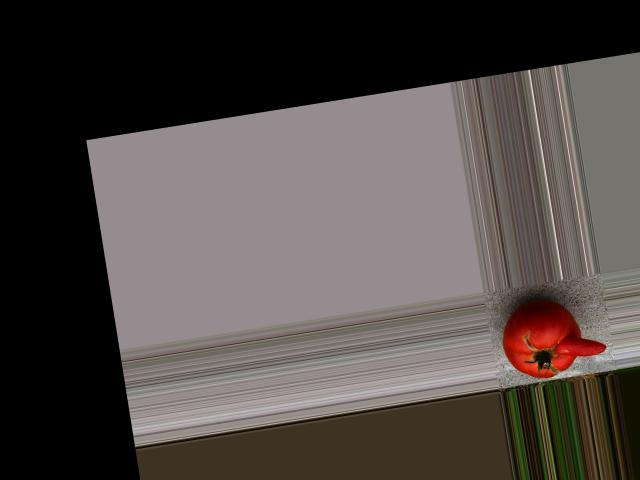tomato: (496, 296, 586, 383)
